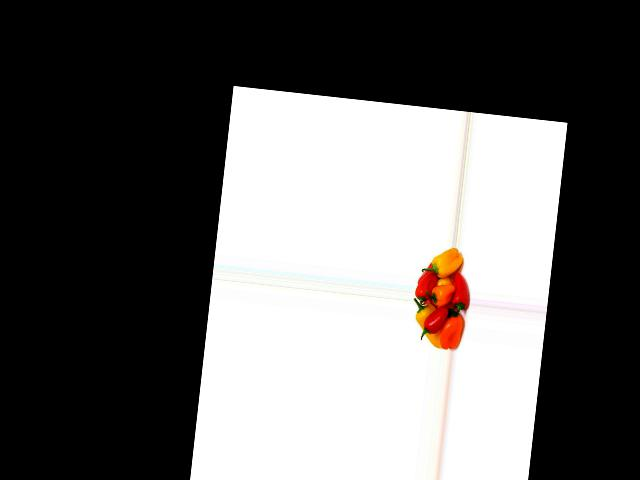bell_pepper: (410, 302, 445, 347)
